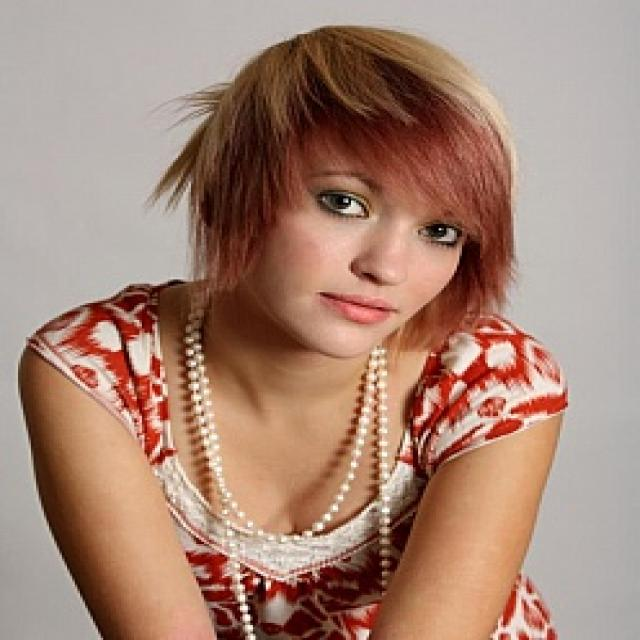Eyes: (304, 179, 462, 258)
